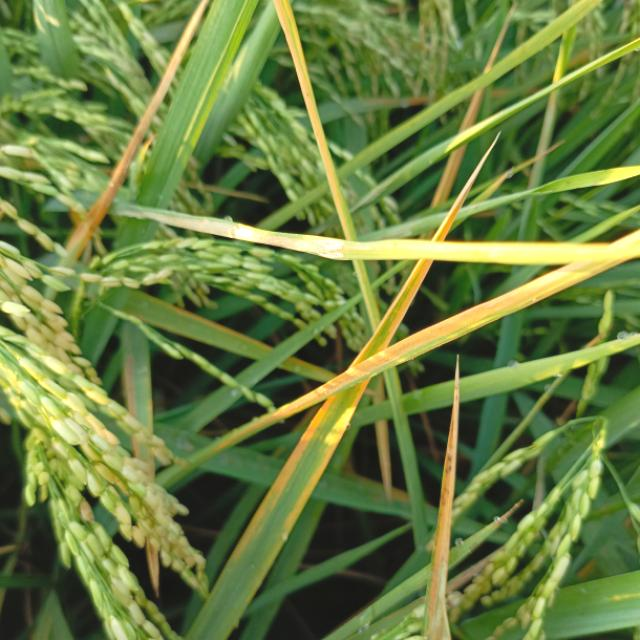Bacterial leaf blight: (366, 184, 549, 241)
Brown spot: (205, 206, 640, 456), (66, 0, 214, 251)
